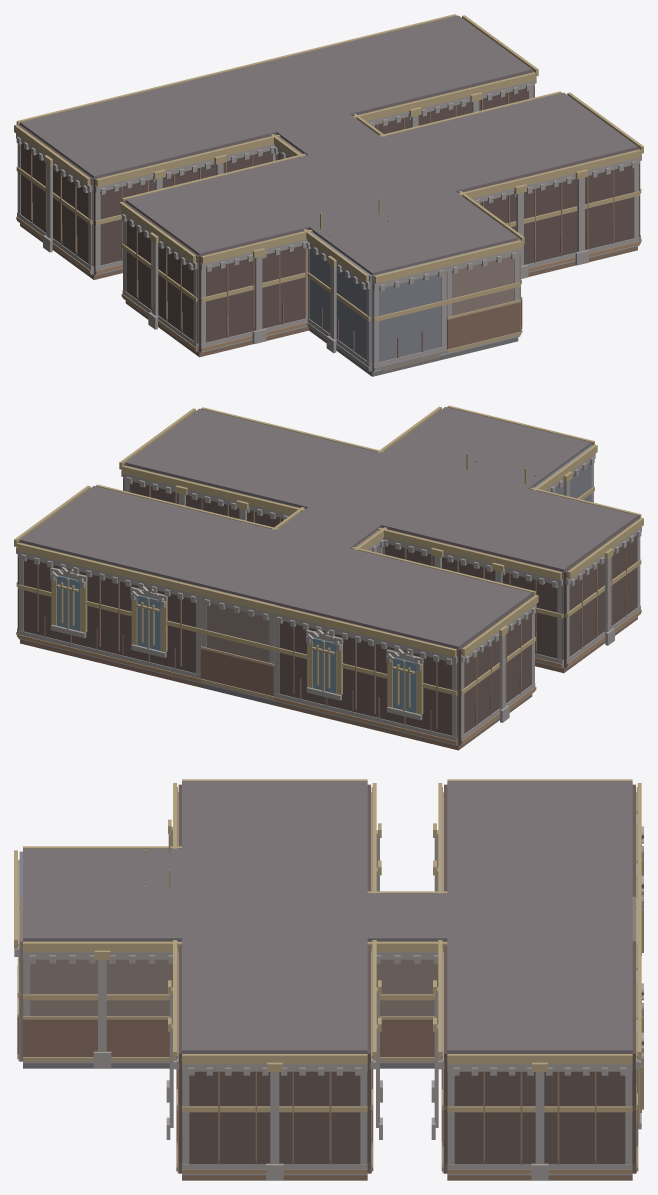
The model's file is floor_03.glb.
3 views of the same model, one above another, from view 1: azimuth 30°, elevation 25°; view 2: azimuth 150°, elevation 25°; view 3: azimuth 270°, elevation 25° (orthographic). The views are drawn at different scales.
Parts seen in each view (by area): view 1: fe-f3-hall-ceiling, fe-f3-room1-ceiling, fe-f3-room4-ceiling, fe-f3-room2-ceiling, fe-f3-room3-ceiling, fe-f3-room4-top-end, fe-f3-room3-top-end, fe-f3-regular-ceiling, fe-f3-regular-top-end, fe-f3-room3-left-end, fe-f3-room1-left-end, fe-f3-regular-left-end (+29 smaller); view 2: fe-f3-hall-ceiling, fe-f3-room1-ceiling, fe-f3-room3-ceiling, fe-f3-room2-ceiling, fe-f3-room4-ceiling, fe-f3-regular-ceiling, fe-f3-room1-left-end, fe-f3-room3-left-end, fe-f3-room3-bottom-end, fe-f3-room2-bottom-1-solid, fe-f3-room1-bottom-1-solid, fe-f3-hall-bottom-end (+34 smaller); view 3: fe-f3-hall-ceiling, fe-f3-room2-ceiling, fe-f3-room4-ceiling, fe-f3-room1-ceiling, fe-f3-room3-ceiling, fe-f3-room2-right-end, fe-f3-room4-right-end, fe-f3-regular-ceiling, fe-f3-hall-right-end, fe-f3-hall-right-finish-end-lower, fe-f3-hall-right-1-solid, fe-f3-hall-right-finish-1-solid-lower (+33 smaller).
Part boxes in pixels (x1,y1,x2,y2): fe-f3-hall-ceiling: (203,60,518,257); fe-f3-room1-ceiling: (20,78,276,178); fe-f3-room4-ceiling: (381,92,637,192); fe-f3-room2-ceiling: (276,15,532,115); fe-f3-room3-ceiling: (125,155,381,255); fe-f3-room4-top-end: (458,149,637,264); fe-f3-room3-top-end: (199,229,309,352); fe-f3-regular-ceiling: (309,209,445,275); fe-f3-regular-top-end: (372,258,445,371); fe-f3-room3-left-end: (124,202,199,352); fe-f3-room1-left-end: (18,125,93,274); fe-f3-regular-left-end: (309,232,372,371); fe-f3-hall-ceiling: (202,407,517,604); fe-f3-room1-ceiling: (276,548,532,649); fe-f3-room3-ceiling: (381,471,637,571); fe-f3-room2-ceiling: (20,486,275,586); fe-f3-room4-ceiling: (125,408,381,508); fe-f3-regular-ceiling: (455,424,591,488); fe-f3-room1-left-end: (458,595,533,745); fe-f3-room3-left-end: (564,518,639,667); fe-f3-room3-bottom-end: (381,527,563,664); fe-f3-room2-bottom-1-solid: (81,557,139,659); fe-f3-room1-bottom-1-solid: (337,620,394,721); fe-f3-hall-bottom-end: (202,587,275,692); fe-f3-hall-ceiling: (23,893,632,941); fe-f3-room2-ceiling: (447,938,632,1053); fe-f3-room4-ceiling: (182,938,367,1053); fe-f3-room1-ceiling: (447,781,632,893); fe-f3-room3-ceiling: (182,781,367,893); fe-f3-room2-right-end: (447,1053,632,1164); fe-f3-room4-right-end: (182,1053,367,1164); fe-f3-regular-ceiling: (23,848,181,893); fe-f3-hall-right-end: (23,941,180,1016); fe-f3-hall-right-finish-end-lower: (23,1019,169,1056); fe-f3-hall-right-1-solid: (371,941,443,1016); fe-f3-hall-right-finish-1-solid-lower: (380,1019,434,1056).
Size of the model in its own units: 15.34 by 3.79 by 14.48.
